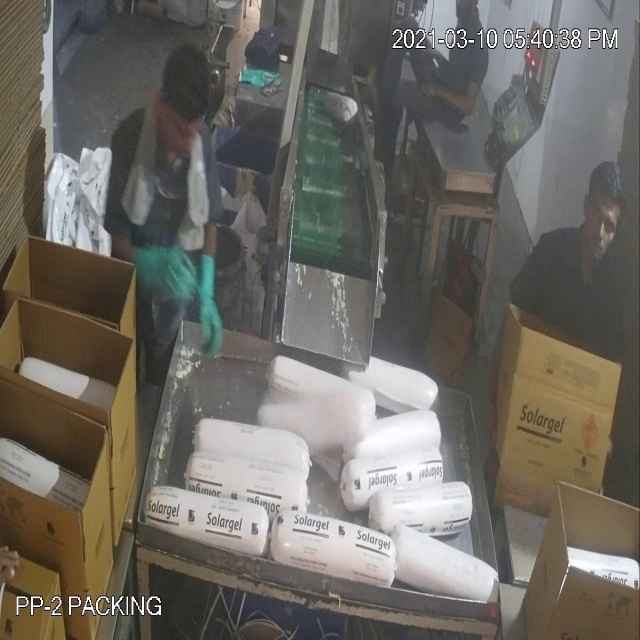Guantes: (129, 227, 196, 308), (191, 241, 226, 365)
Sin_guantes: (479, 279, 518, 451), (414, 65, 490, 132)
